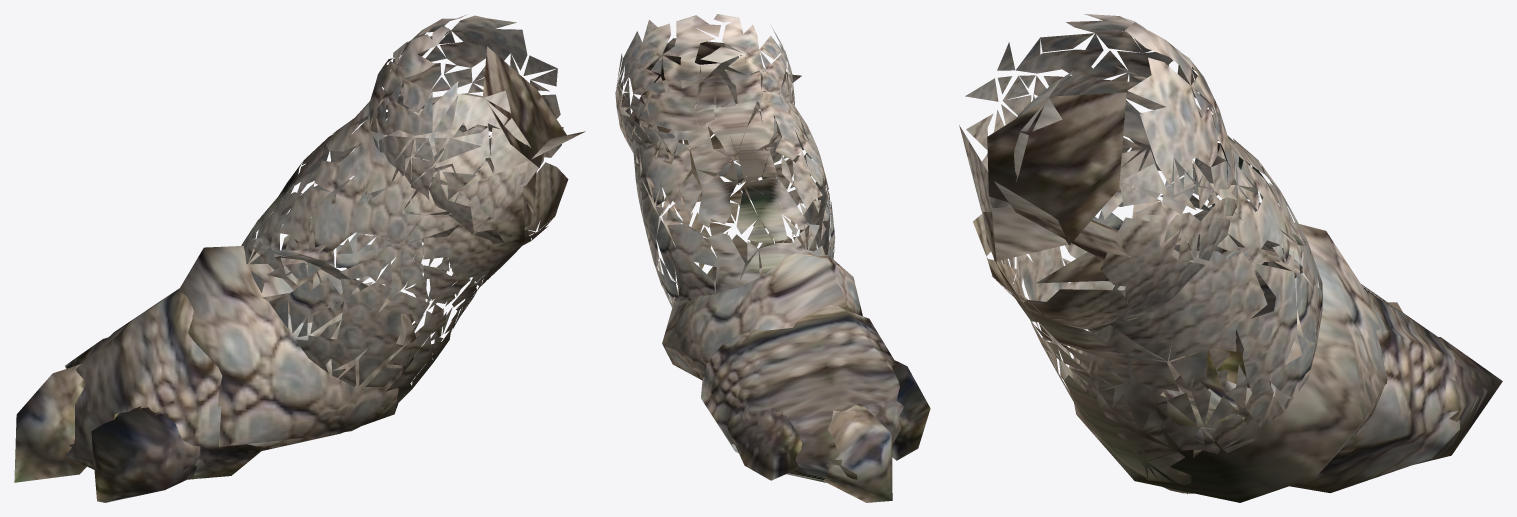
File: tortuga_pata_der.obj
The picture shows the model from 3 angles, left to right: view 1: azimuth 30°, elevation 25°; view 2: azimuth 150°, elevation 25°; view 3: azimuth 270°, elevation 25°; orthographic projection. The views are drawn at different scales.
Parts seen in each view (by area): view 1: tortuga_pata_der; view 2: tortuga_pata_der; view 3: tortuga_pata_der.
Part boxes in pixels (x1,y1,x2,y2): tortuga_pata_der: (14, 14, 585, 502); tortuga_pata_der: (615, 14, 930, 502); tortuga_pata_der: (959, 14, 1502, 502).
Size of the model in its own units: 0.3643 by 0.3607 by 0.3041.
Materials: 1 (1 with a texture image).
